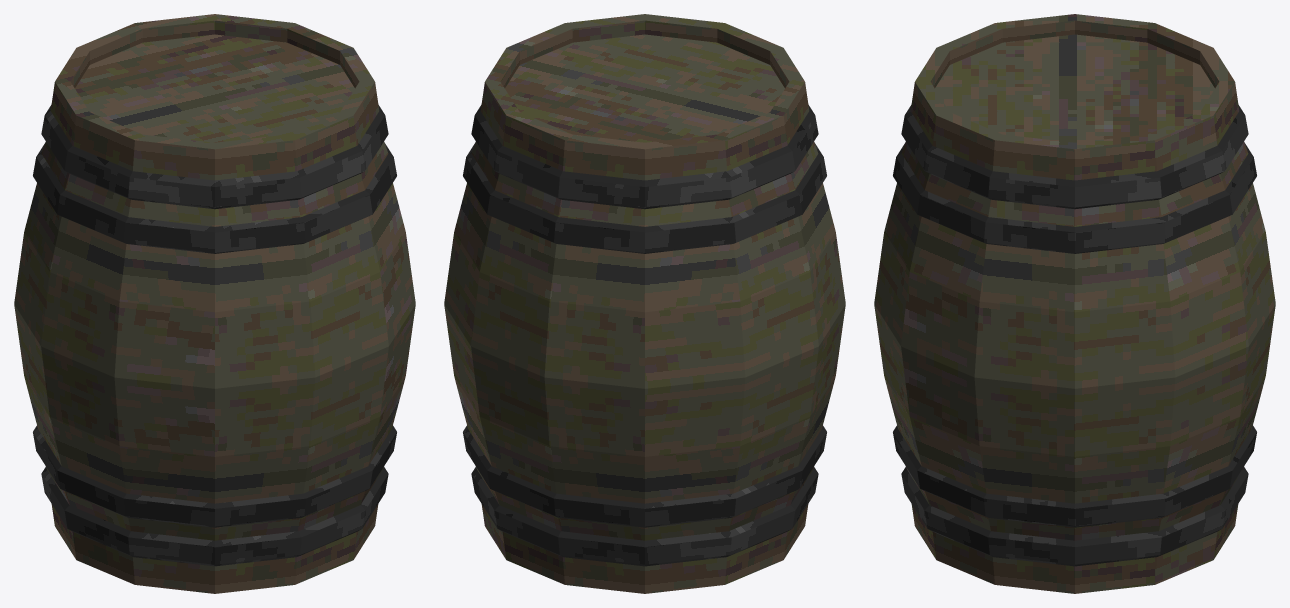
The model's file is barrel_01.gltf.
3 renders of one model, left to right at view 1: azimuth 30°, elevation 25°; view 2: azimuth 150°, elevation 25°; view 3: azimuth 270°, elevation 25°, orthographic.
Parts seen in each view (by area): view 1: barrel_01; view 2: barrel_01; view 3: barrel_01.
Boxes of the visible parts, x1,y1,x2,y2 form: barrel_01: (14,14,415,593); barrel_01: (444,14,845,593); barrel_01: (874,14,1275,593).
Bounding box in the file's own units: 0.7369 × 0.9 × 0.7369.
1 material, 1 textured.
